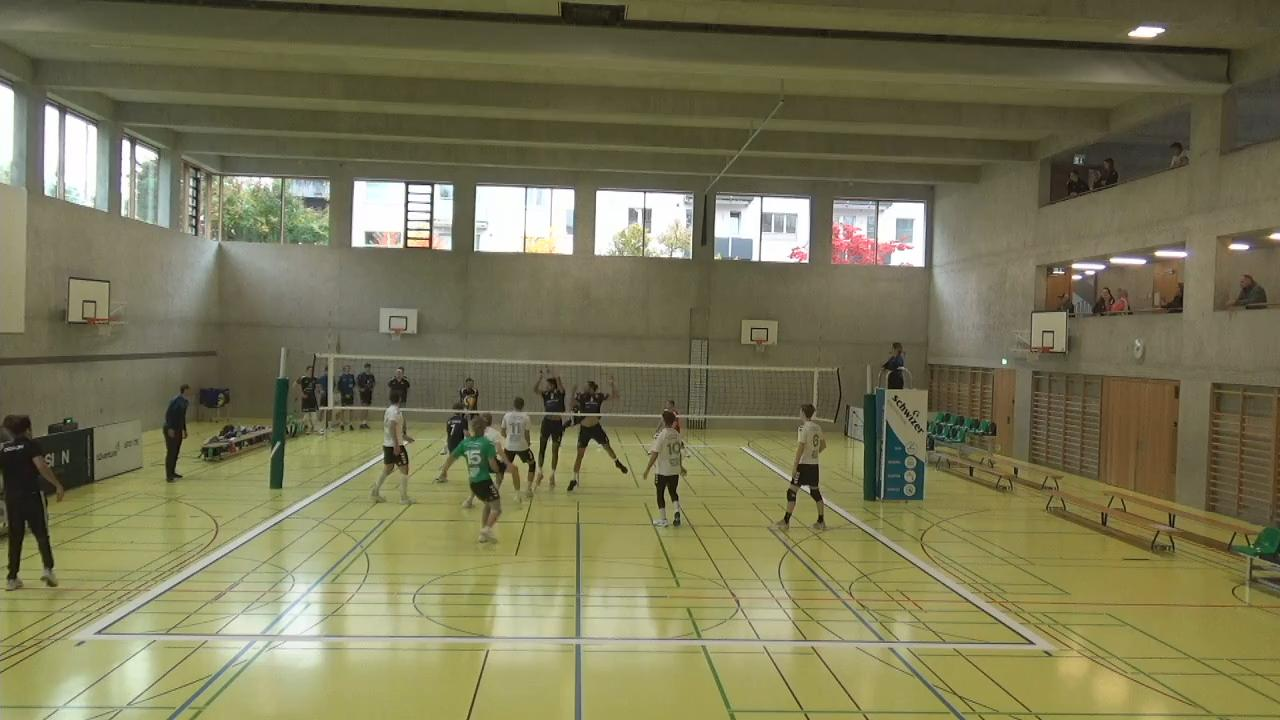Dig: (455, 377, 481, 421)
Player: (566, 378, 632, 483), (774, 404, 827, 528), (459, 408, 506, 546), (471, 409, 525, 508), (373, 386, 416, 503), (647, 409, 687, 527), (495, 395, 539, 501), (536, 369, 568, 485), (434, 401, 473, 484)
ball: (461, 390, 475, 409)
